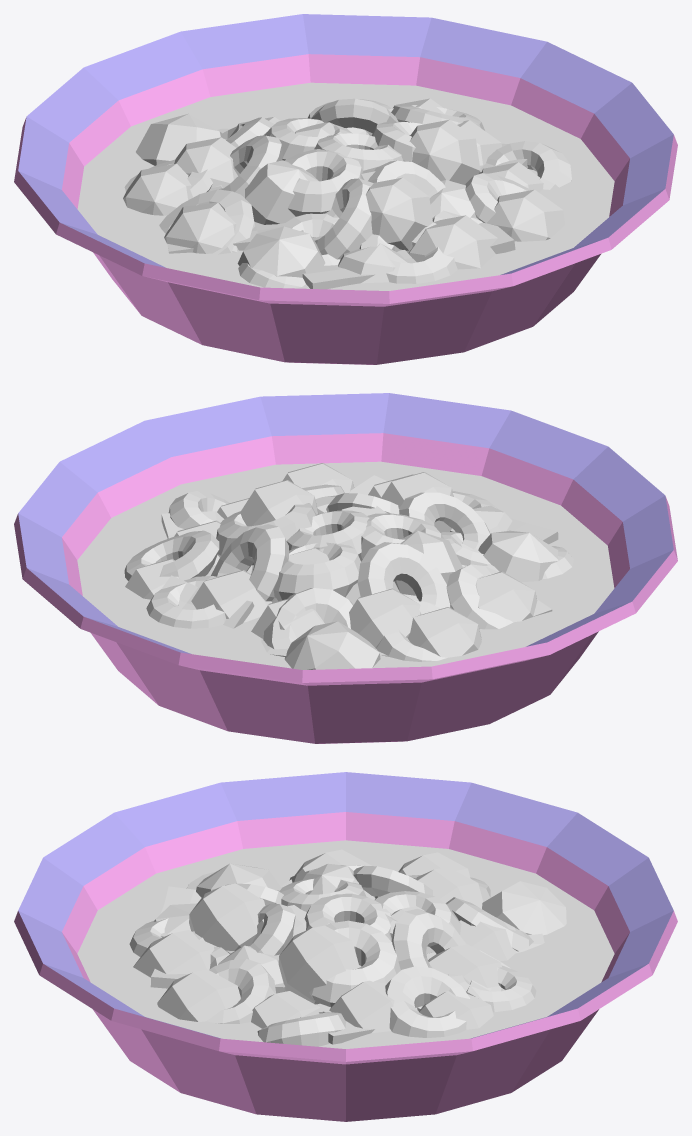
File: Cereal.fbx
3 renders of one model, top to bottom at view 1: azimuth 30°, elevation 25°; view 2: azimuth 150°, elevation 25°; view 3: azimuth 270°, elevation 25°, orthographic.
Visible parts, largest first — view 1: Small Bowl.001, Qwix, Quackos.002, Milk, Cornflakes.002; view 2: Small Bowl.001, Quackos.002, Qwix, Milk, Cornflakes.002; view 3: Small Bowl.001, Qwix, Quackos.002, Milk, Cornflakes.002.
Boxes of the visible parts, left/top/right/bottom form: Small Bowl.001: left=14, top=14, right=677, bottom=364; Qwix: left=123, top=98, right=565, bottom=283; Quackos.002: left=124, top=98, right=571, bottom=288; Milk: left=77, top=82, right=614, bottom=290; Cornflakes.002: left=167, top=108, right=527, bottom=289; Small Bowl.001: left=14, top=393, right=677, bottom=743; Quackos.002: left=124, top=484, right=573, bottom=661; Qwix: left=125, top=463, right=558, bottom=669; Milk: left=77, top=461, right=614, bottom=668; Cornflakes.002: left=161, top=475, right=558, bottom=656; Small Bowl.001: left=14, top=772, right=677, bottom=1121; Qwix: left=133, top=849, right=566, bottom=1033; Quackos.002: left=129, top=865, right=536, bottom=1046; Milk: left=77, top=840, right=614, bottom=1048; Cornflakes.002: left=150, top=879, right=544, bottom=1044.
Bounding box in the file's own units: 59.99 × 14.64 × 59.99.
